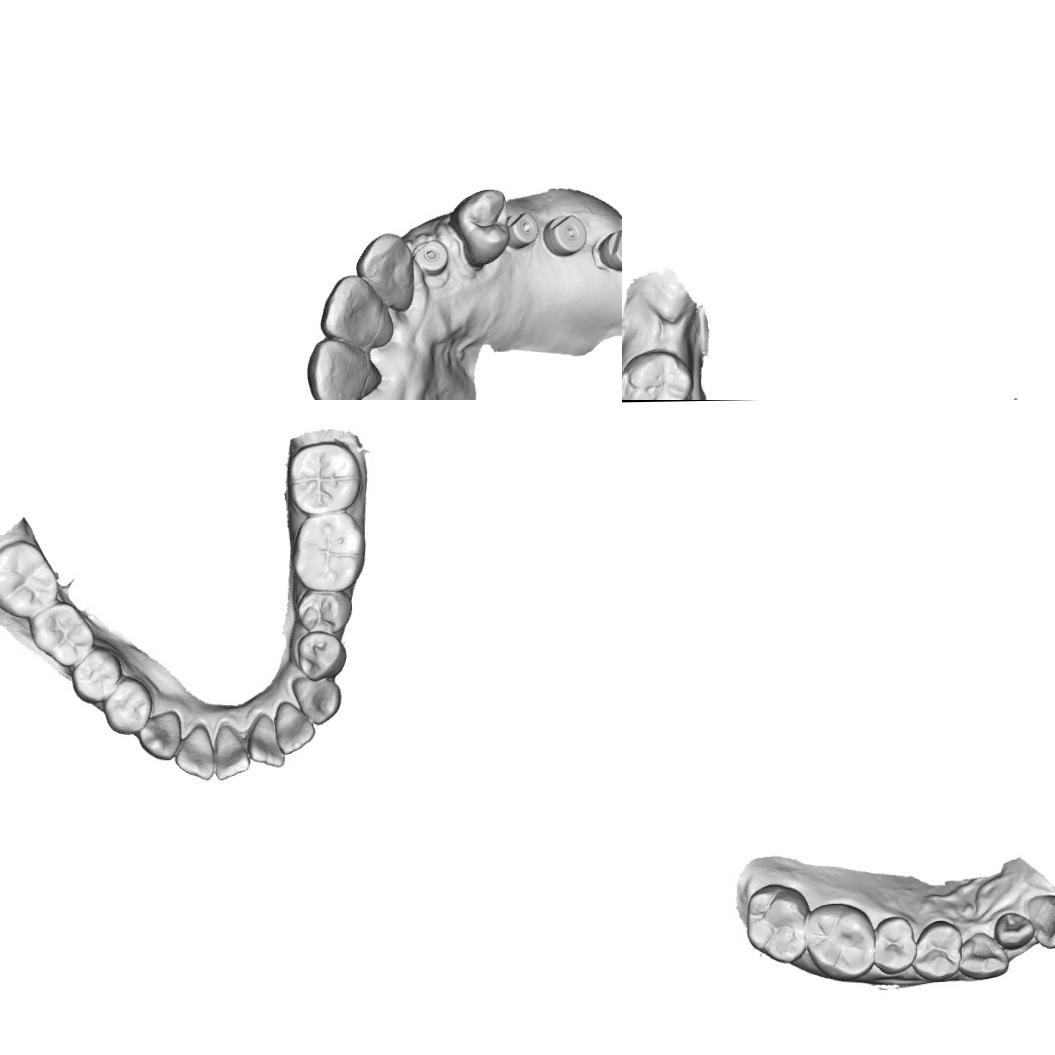canine: (290, 676, 342, 726), (135, 708, 183, 762), (960, 931, 1010, 982)
implant: (542, 214, 588, 258), (593, 228, 622, 273), (413, 239, 449, 275), (509, 210, 540, 250)
incisor: (319, 273, 395, 340), (304, 336, 383, 400), (356, 230, 416, 314), (173, 722, 216, 782), (243, 712, 285, 769), (274, 699, 316, 756), (214, 722, 252, 782), (1024, 893, 1055, 950), (993, 910, 1035, 950)
molar: (290, 511, 368, 592), (284, 440, 362, 516), (804, 902, 878, 982), (742, 882, 812, 964), (0, 538, 60, 620), (28, 599, 96, 669), (622, 349, 695, 400)
premolar: (447, 187, 511, 271), (99, 674, 154, 736), (910, 918, 962, 982), (70, 645, 124, 705), (871, 915, 918, 974), (294, 590, 354, 636), (295, 630, 348, 682)
